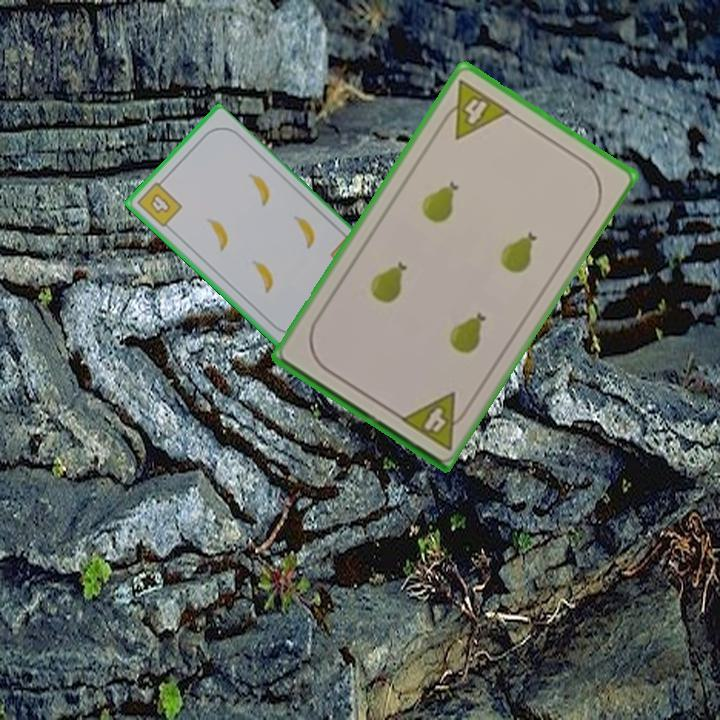4b: (133, 175, 185, 230)
4p: (434, 75, 514, 142), (396, 388, 474, 453)
